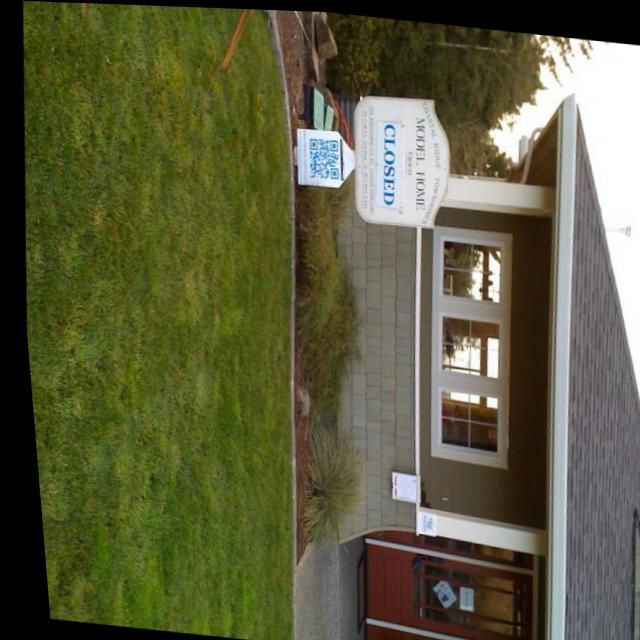qrcode: (305, 136, 338, 178)
